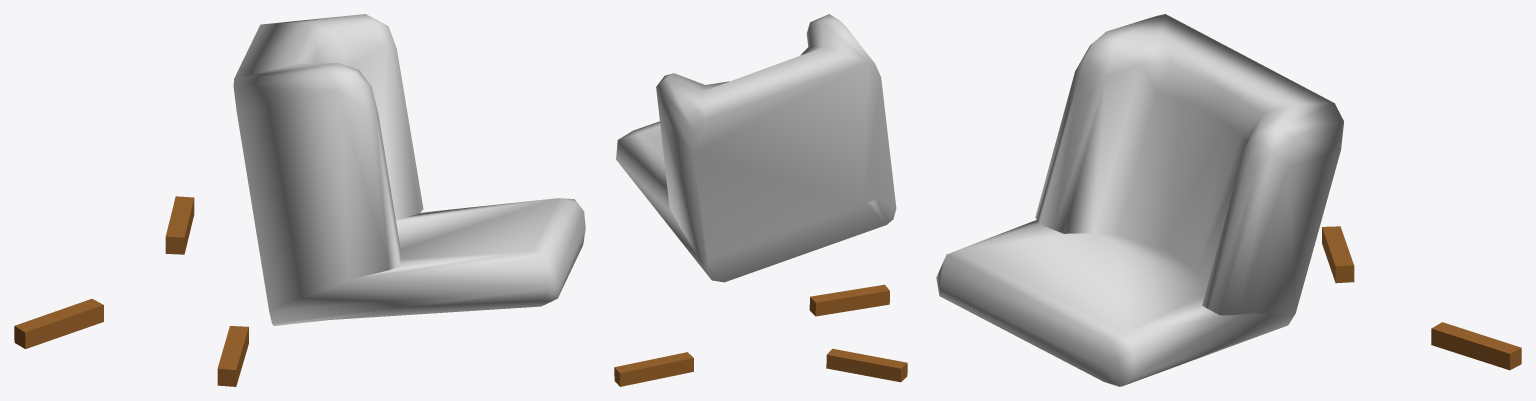
Rendered from b_koltuk.obj.
3 renders of one model, left to right at view 1: azimuth 30°, elevation 25°; view 2: azimuth 150°, elevation 25°; view 3: azimuth 270°, elevation 25°, orthographic. The views are drawn at different scales.
Visible parts, largest first — view 1: Cube.147_oje_gri, Cube.147_m_koyuahşap; view 2: Cube.147_oje_gri, Cube.147_m_koyuahşap; view 3: Cube.147_oje_gri, Cube.147_m_koyuahşap.
Boxes of the visible parts, x1,y1,x2,y2 form: Cube.147_oje_gri: [233, 14, 585, 325]; Cube.147_m_koyuahşap: [14, 196, 248, 386]; Cube.147_oje_gri: [616, 14, 896, 282]; Cube.147_m_koyuahşap: [614, 284, 907, 386]; Cube.147_oje_gri: [936, 14, 1343, 386]; Cube.147_m_koyuahşap: [1322, 226, 1521, 370].
Bounding box in the file's own units: 16.08 × 10.44 × 18.17.
